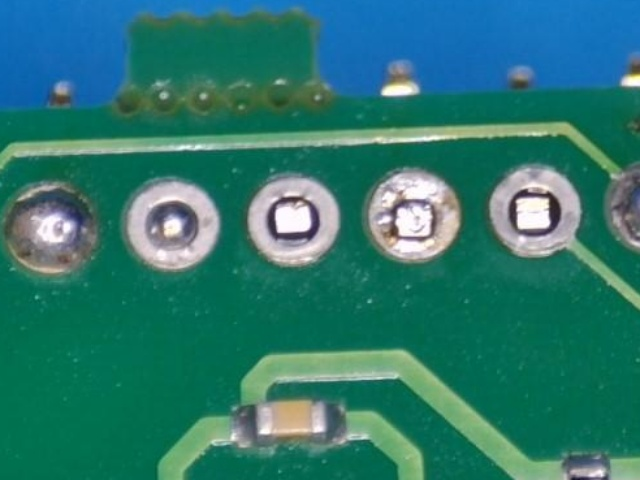pcb_defect: (4, 185, 95, 273), (127, 181, 218, 268)
